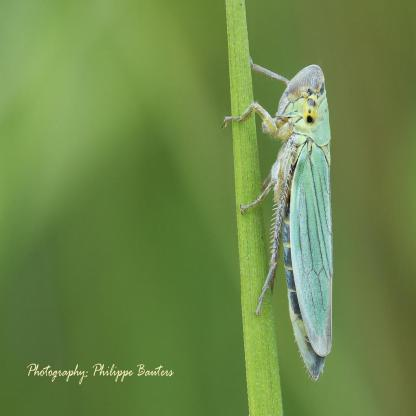Green-Leafhopper: (223, 48, 344, 382)
